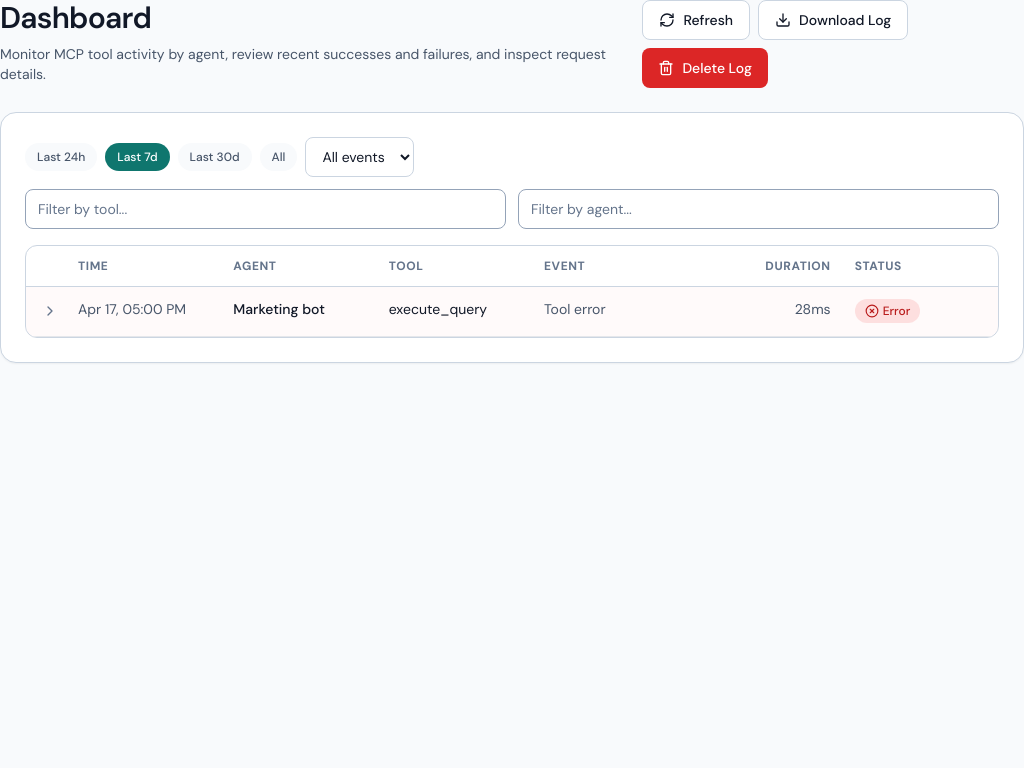
it: HomePage › expands a row to fetch and display request, result, query name, SQL, and error details
Expected: the text "Marketing bot" is shown, [221,286,377,336]
Click the button named "expand details for execute_query". click: click(50, 311)
box: [38,299,62,323]
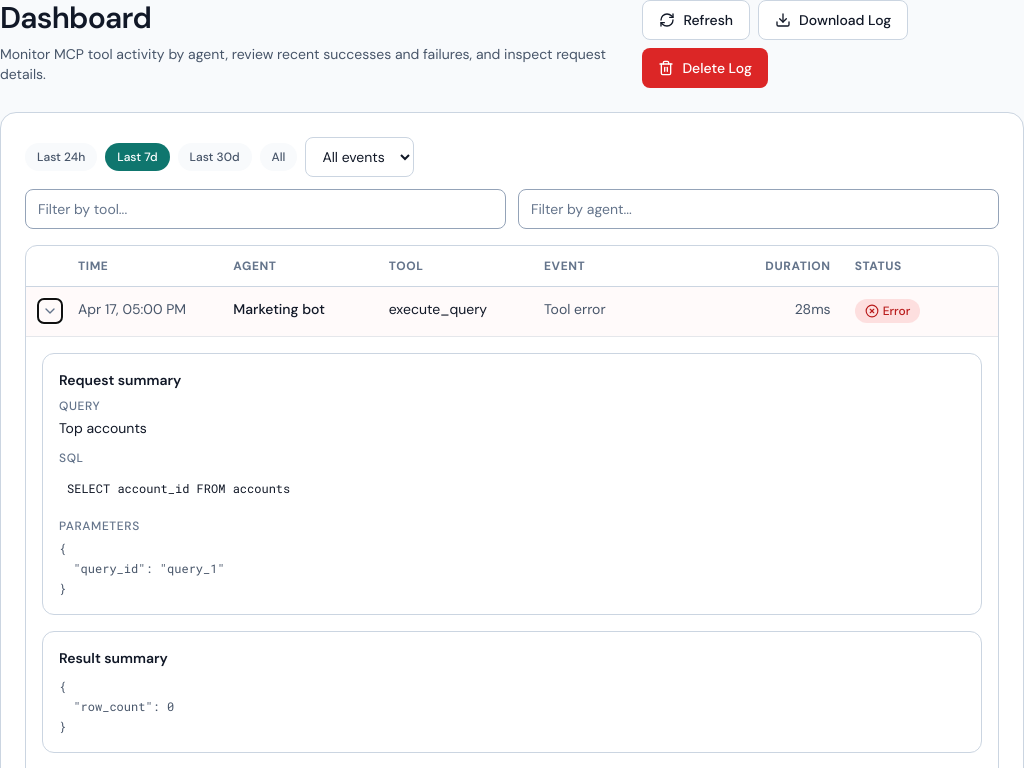
Expected: the text "Top accounts" is shown, [59,419,147,437]
Expected: the heading "Request summary" is shown, [59,371,181,389]
Expected: the heading "Result summary" is shown, [59,649,168,667]
